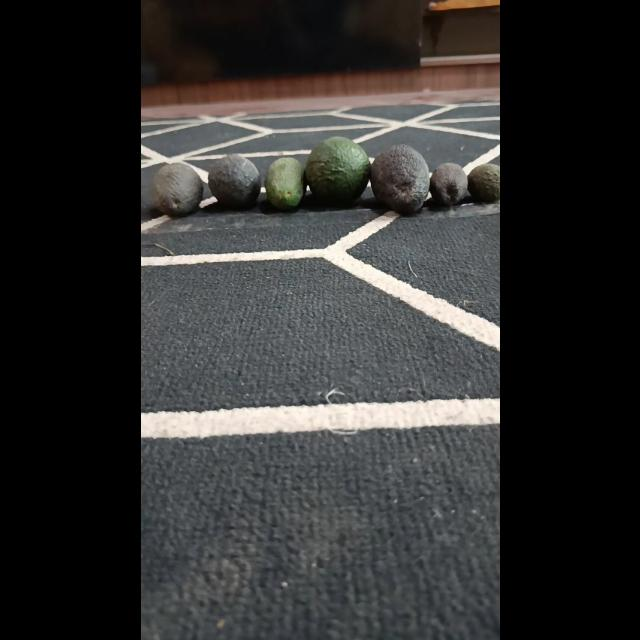Primera: (302, 136, 370, 206), (368, 144, 430, 214)
Segunda: (206, 154, 260, 210), (150, 162, 203, 216), (264, 156, 304, 210)
Tercera: (428, 162, 468, 206), (466, 164, 499, 204)
